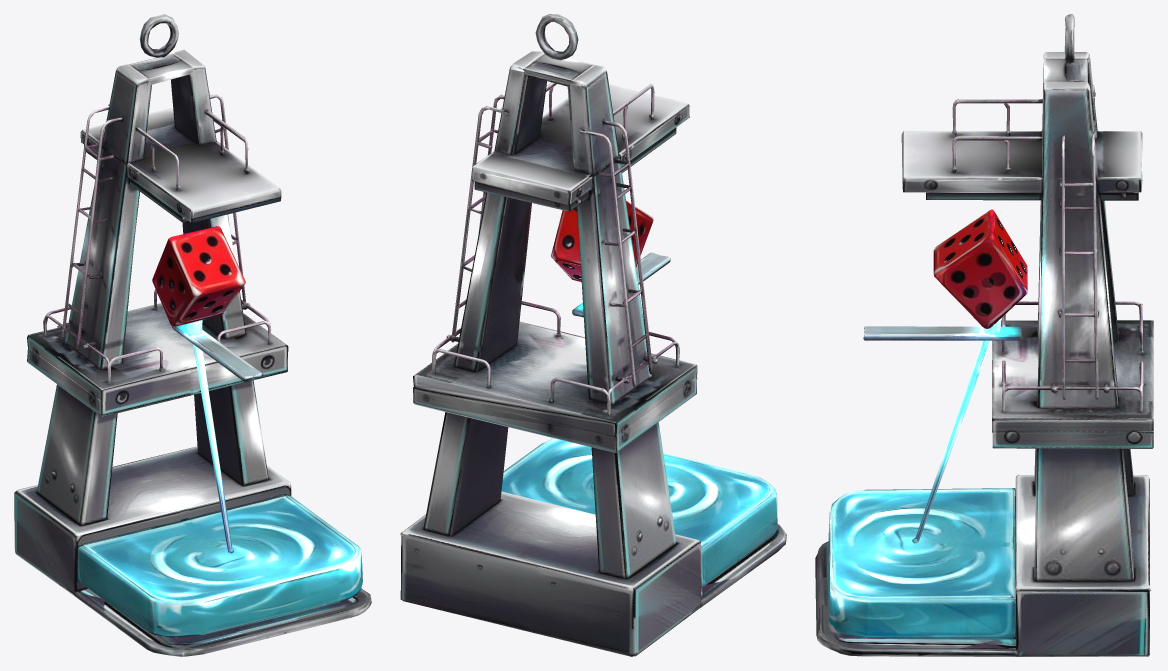
Rendered from drop_height.glb.
The picture shows the model from 3 angles, left to right: view 1: azimuth 30°, elevation 25°; view 2: azimuth 150°, elevation 25°; view 3: azimuth 270°, elevation 25°; orthographic projection. The views are drawn at different scales.
Bounding box in the file's own units: 0.4287 × 1 × 0.5273.
1 material, 1 textured.
